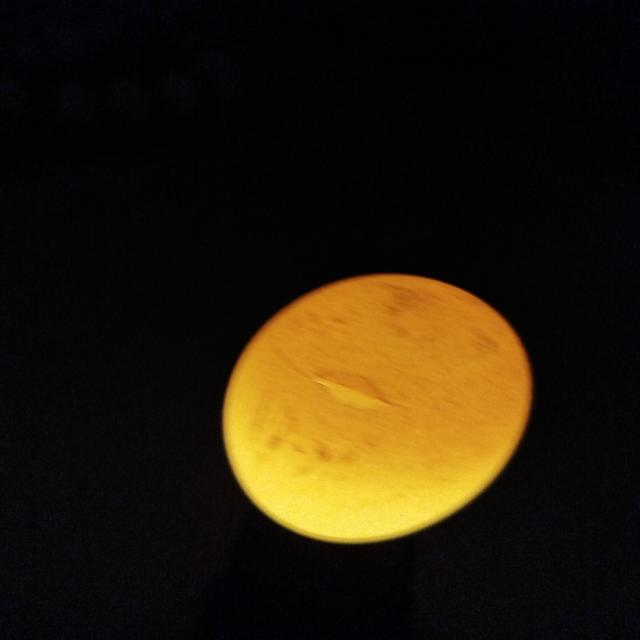Rachadura: (312, 371, 390, 409)
